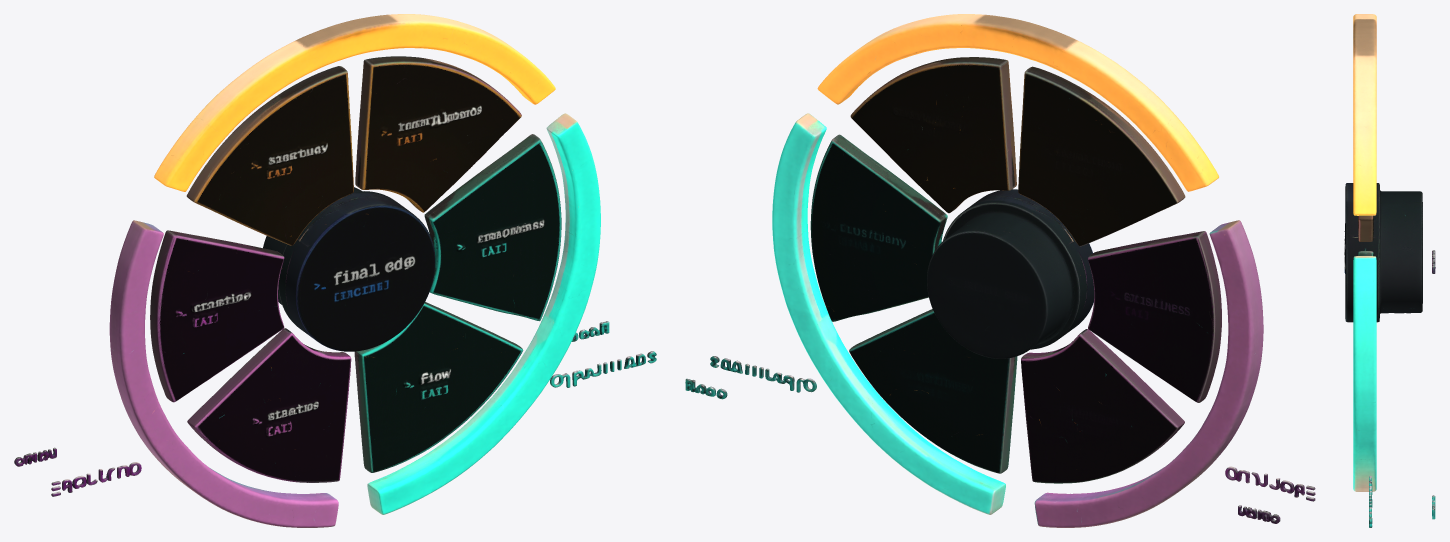
File: engine.glb
The picture shows the model from 3 angles, left to right: view 1: azimuth 30°, elevation 25°; view 2: azimuth 150°, elevation 25°; view 3: azimuth 270°, elevation 25°; orthographic projection. The views are drawn at different scales.
Size of the model in its own units: 1.9 by 1.48 by 0.2825.
1 material, 1 textured.
